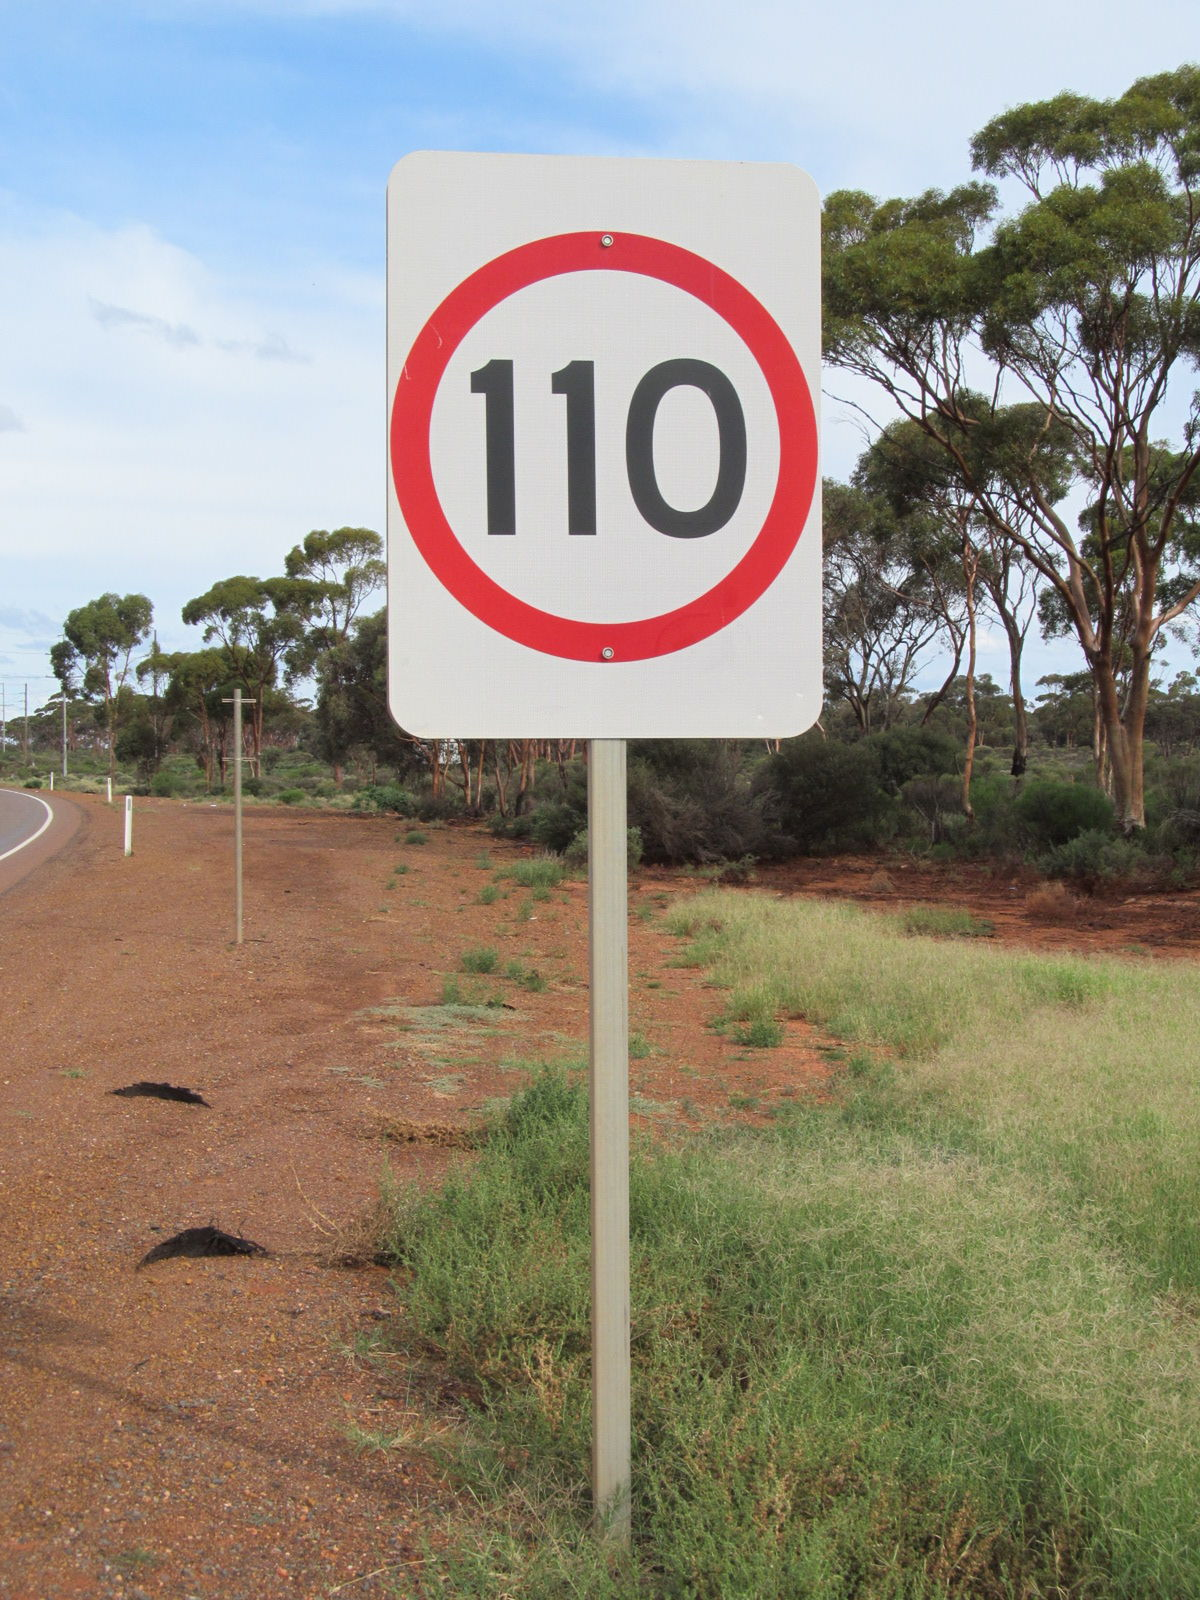Speed_limit_110km: (393, 229, 818, 666)
